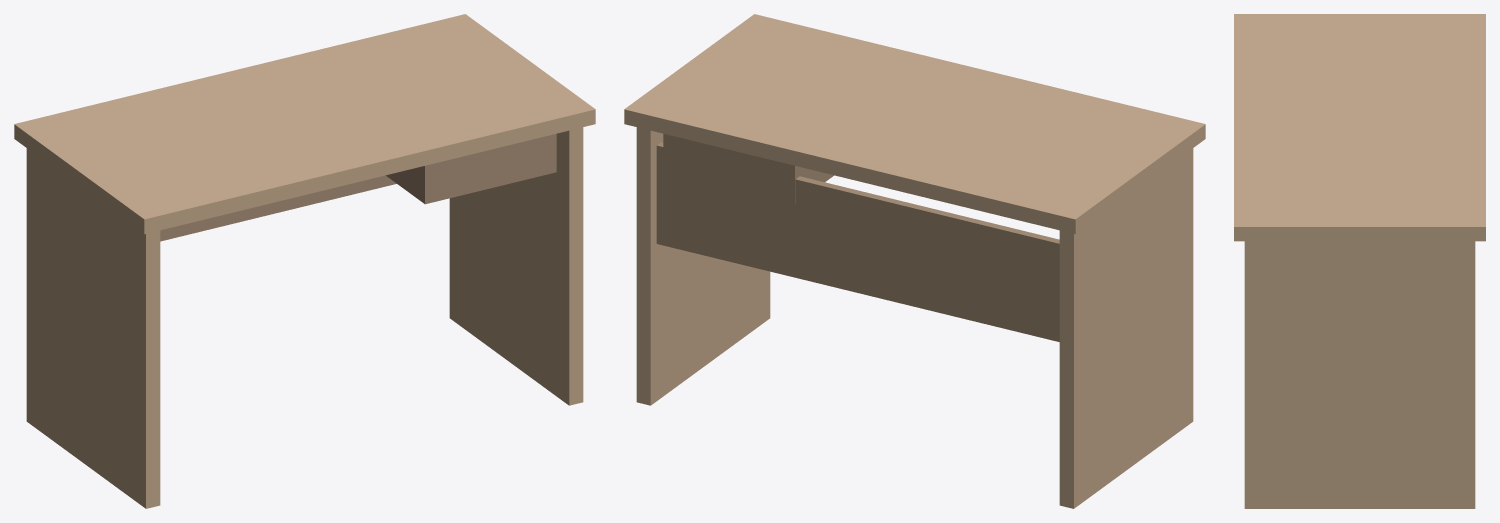
File: desk.glb
3 views of the same model, side by side, from view 1: azimuth 30°, elevation 25°; view 2: azimuth 150°, elevation 25°; view 3: azimuth 270°, elevation 25° (orthographic). The views are drawn at different scales.
Parts seen in each view (by area): view 1: top, panel_l, panel_r, drawer, modesty; view 2: top, modesty, panel_l, panel_r, drawer; view 3: panel_r, top.
Part boxes in pixels (x1=…): top: x1=14, y1=14, x2=595, y2=234; panel_l: x1=26, y1=148, x2=160, y2=508; panel_r: x1=449, y1=127, x2=583, y2=405; drawer: x1=386, y1=133, x2=556, y2=204; modesty: x1=160, y1=175, x2=396, y2=241; top: x1=624, y1=14, x2=1205, y2=234; modesty: x1=656, y1=142, x2=1059, y2=341; panel_l: x1=1059, y1=148, x2=1193, y2=508; panel_r: x1=636, y1=127, x2=770, y2=405; drawer: x1=663, y1=133, x2=833, y2=204; panel_r: x1=1244, y1=241, x2=1475, y2=508; top: x1=1234, y1=14, x2=1485, y2=241.
Size of the model in its own units: 1.22 by 0.762 by 0.6096.
